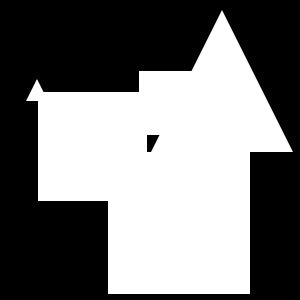circle: (108, 152, 250, 294), (38, 92, 147, 201), (139, 71, 203, 135)
triangle: (151, 10, 293, 152), (26, 79, 48, 101)
